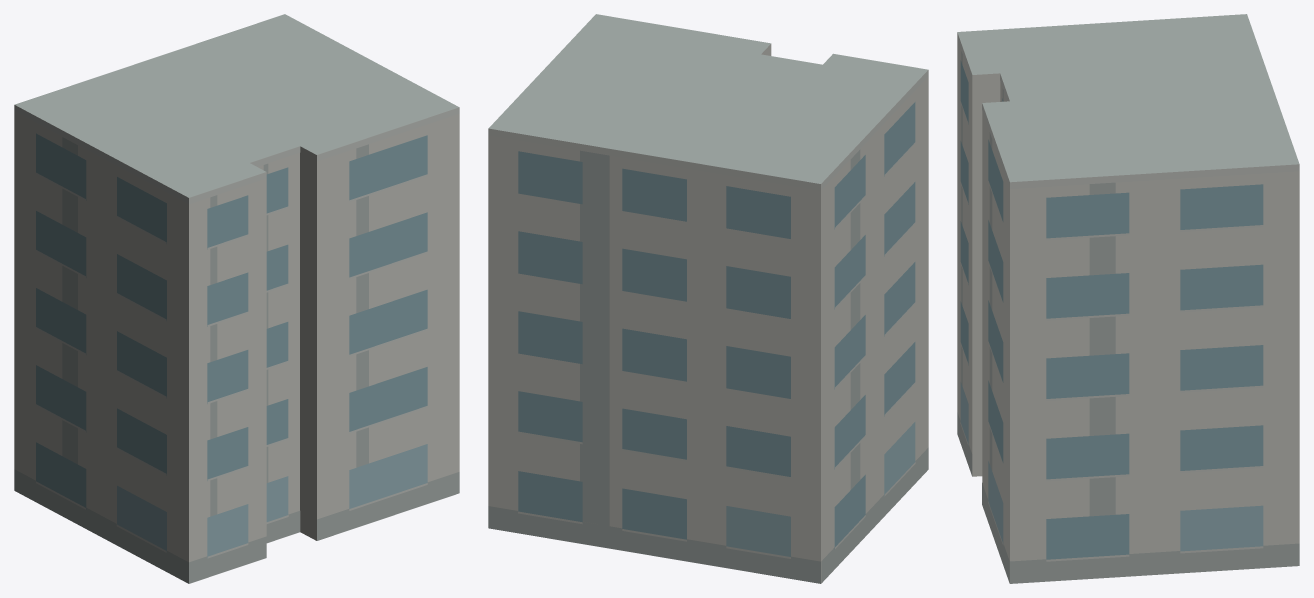
File: survey-upis-32768120.glb
The picture shows the model from 3 angles, left to right: view 1: azimuth 30°, elevation 25°; view 2: azimuth 150°, elevation 25°; view 3: azimuth 270°, elevation 25°; orthographic projection. The views are drawn at different scales.
Visible parts, largest first — view 1: survey-upis-32768120.tmp; view 2: survey-upis-32768120.tmp; view 3: survey-upis-32768120.tmp.
Part boxes in pixels (left/top/right/bottom): survey-upis-32768120.tmp: left=14, top=14, right=459, bottom=583; survey-upis-32768120.tmp: left=488, top=14, right=928, bottom=583; survey-upis-32768120.tmp: left=957, top=14, right=1299, bottom=583.
Size of the model in its own units: 12.81 by 14.25 by 11.02.
